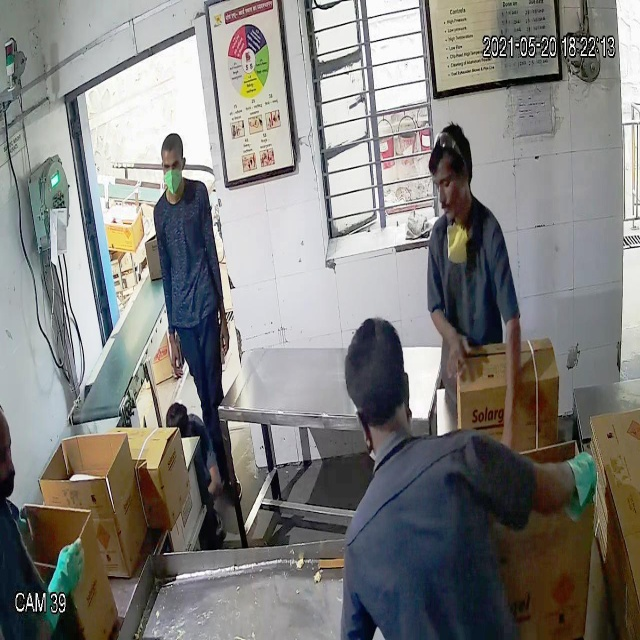Sin_gafas: (428, 167, 461, 197)
